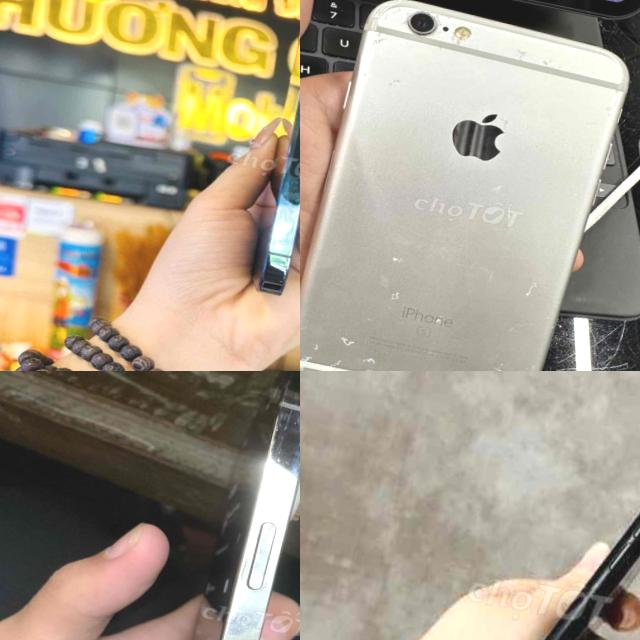gen_12_13: (246, 0, 300, 304)
gen_14: (114, 371, 300, 640)
gen_6: (300, 0, 627, 371)
gen_x_xs: (405, 404, 640, 640)
